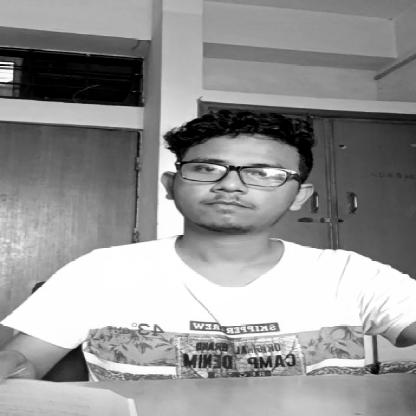Normal: (174, 142, 312, 239)
